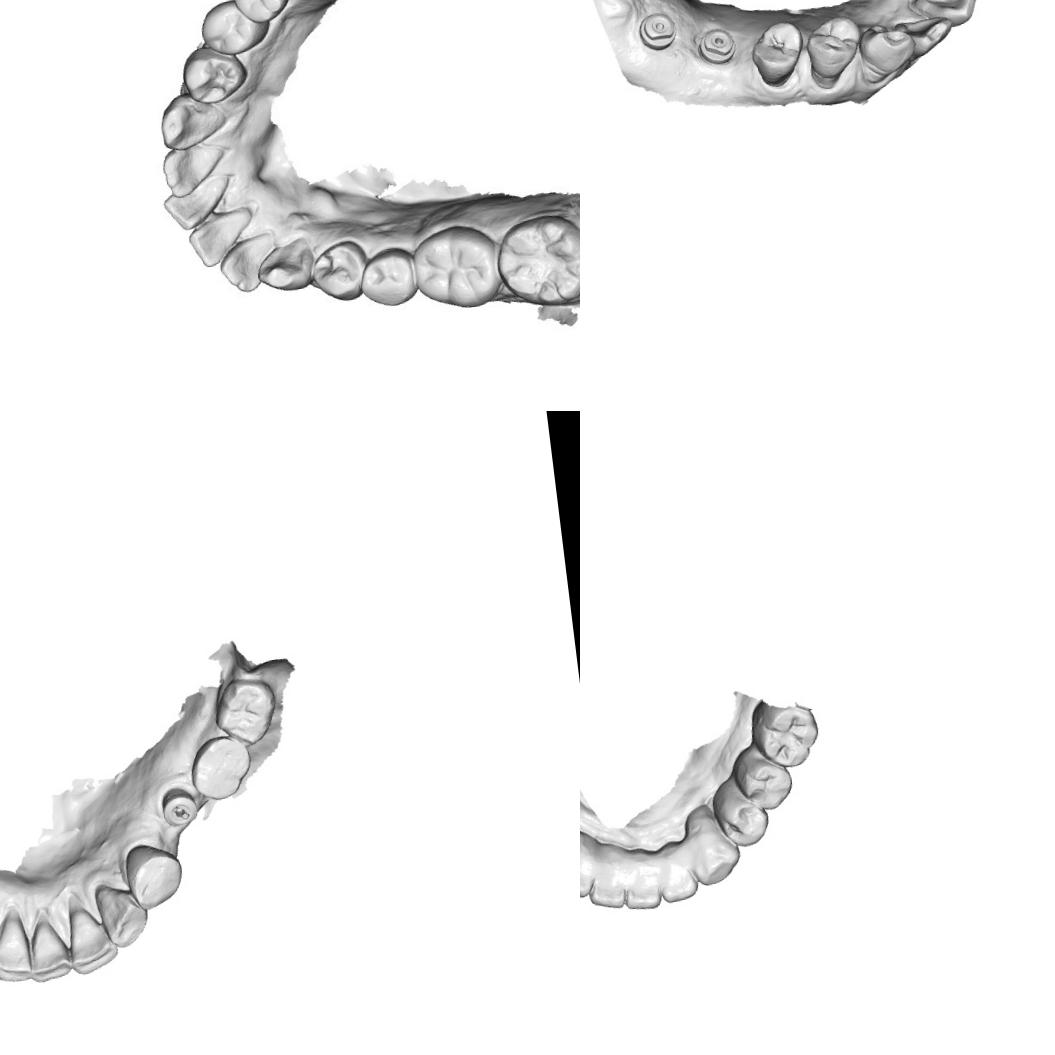canine: (682, 798, 744, 888), (854, 18, 920, 86), (155, 88, 226, 151), (94, 881, 150, 951), (255, 235, 316, 297)
implant: (636, 8, 680, 53), (694, 25, 738, 69)
implant_minus: (156, 785, 202, 834)
incisor: (182, 211, 257, 272), (63, 904, 122, 977), (582, 837, 628, 912), (156, 146, 226, 194), (26, 917, 76, 984), (162, 180, 230, 229), (218, 238, 274, 295), (618, 846, 664, 912), (892, 14, 956, 61), (655, 841, 700, 904), (0, 917, 38, 985), (906, 0, 980, 31), (580, 826, 601, 901)
molar: (492, 201, 580, 318), (405, 218, 505, 318), (747, 690, 822, 772), (210, 672, 280, 748), (187, 733, 258, 807)
premolar: (118, 836, 192, 910), (802, 13, 868, 92), (728, 738, 796, 814), (708, 772, 773, 850), (182, 43, 252, 113), (746, 18, 808, 90), (357, 244, 420, 310), (308, 236, 370, 303), (201, 0, 264, 54), (228, 0, 286, 28)
